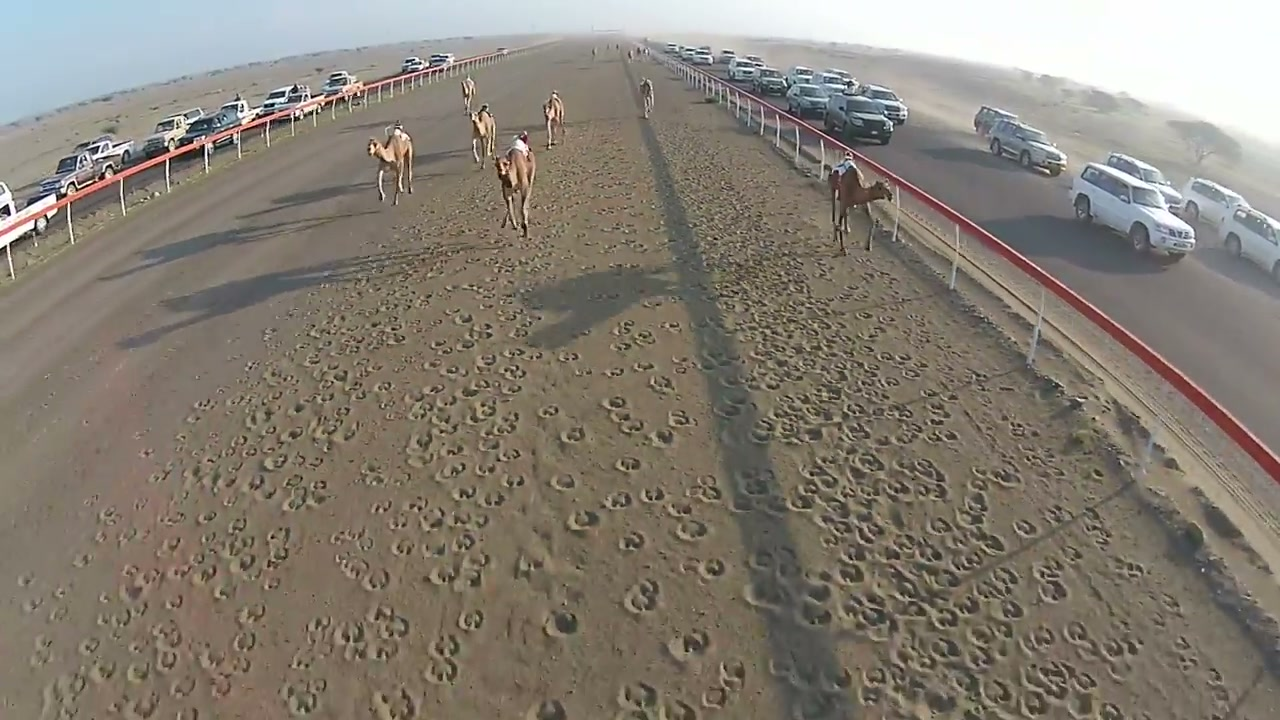animal_footprint: (0, 43, 1275, 719), (699, 234, 1194, 716), (667, 629, 710, 662), (543, 609, 579, 637), (524, 699, 569, 719)
